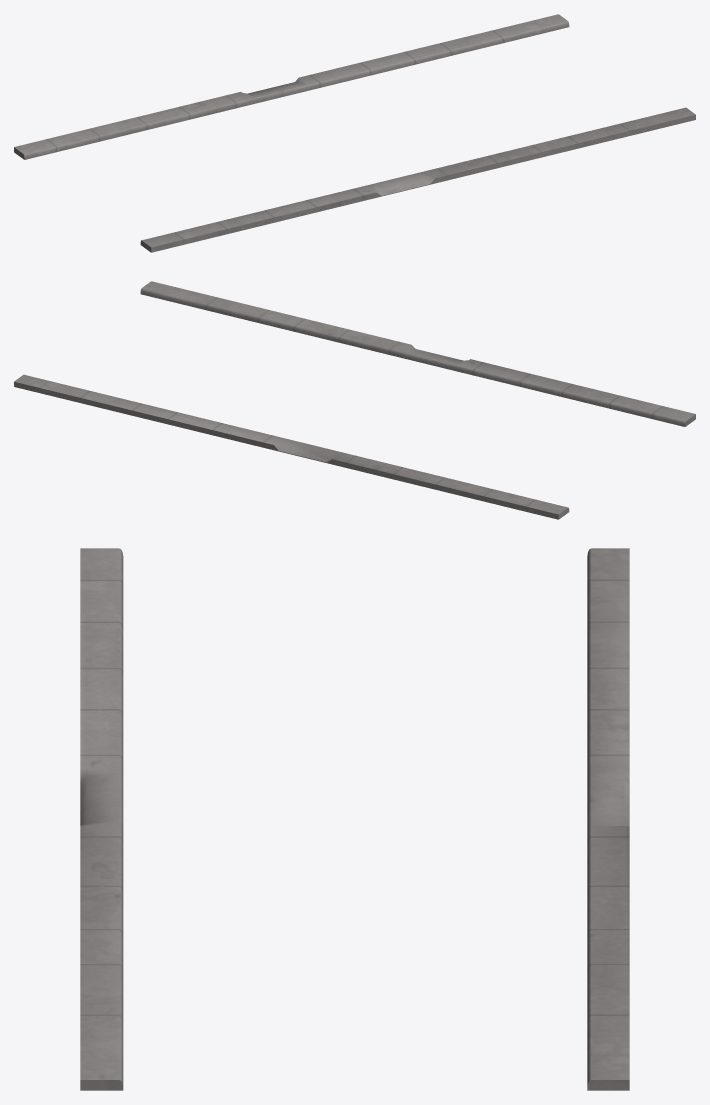
File: Long_SideWalks_W_Slopes.fbx
The picture shows the model from 3 angles, top to bottom: view 1: azimuth 30°, elevation 25°; view 2: azimuth 150°, elevation 25°; view 3: azimuth 270°, elevation 25°; orthographic projection. The views are drawn at different scales.
Visible parts, largest first — view 1: Long_SideWalks_W_Slopes; view 2: Long_SideWalks_W_Slopes; view 3: Long_SideWalks_W_Slopes.
Boxes of the visible parts, left/top/right/bottom form: Long_SideWalks_W_Slopes: left=14, top=14, right=695, bottom=252; Long_SideWalks_W_Slopes: left=14, top=281, right=695, bottom=519; Long_SideWalks_W_Slopes: left=80, top=548, right=629, bottom=1090.
Size of the model in its own units: 1299 by 567 by 11.97.
